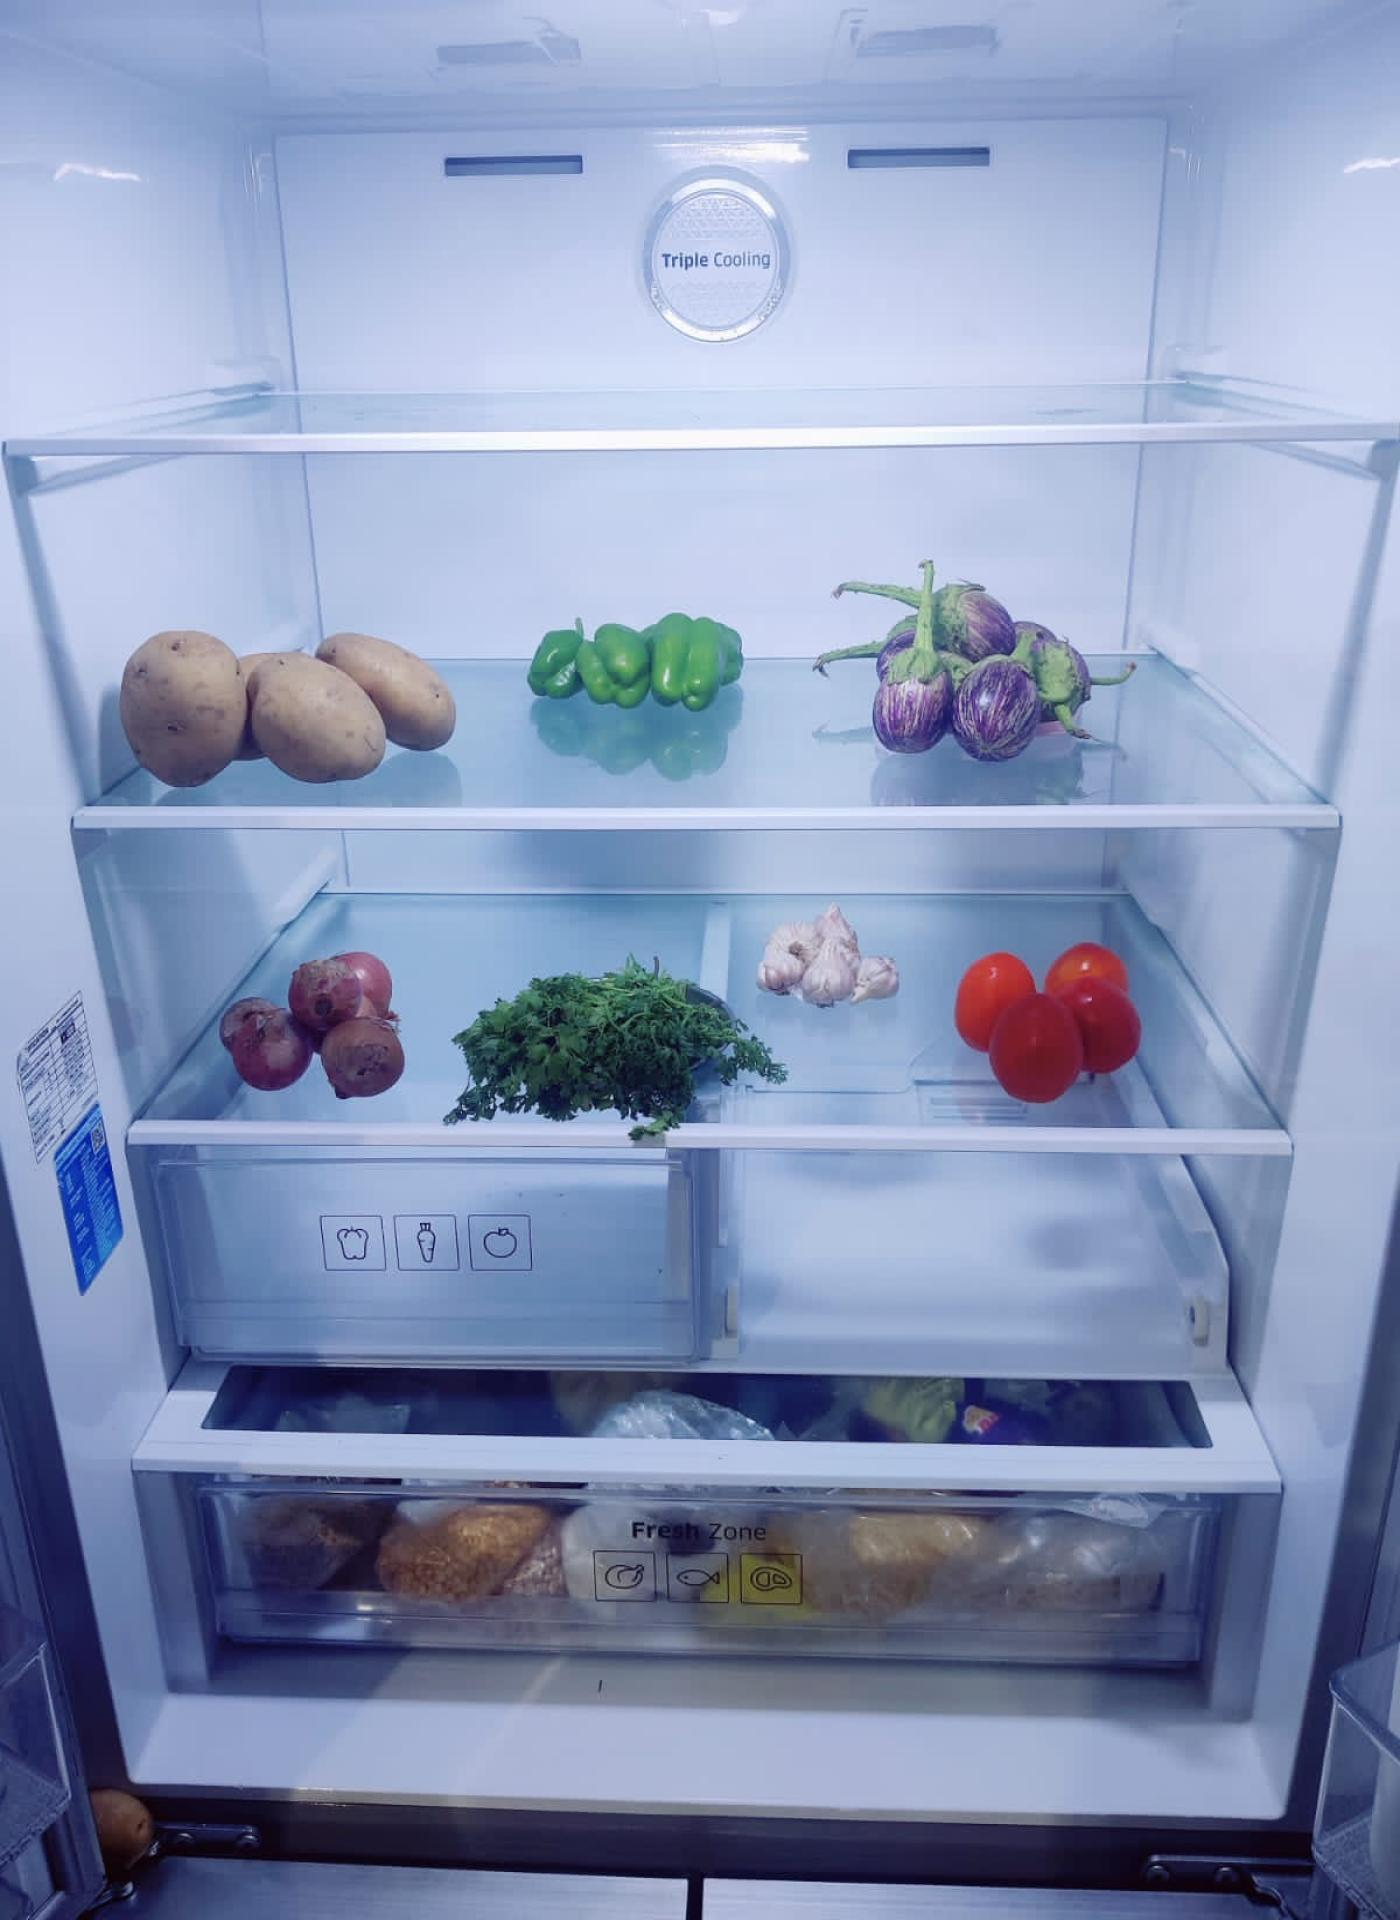brinjal: (869, 581, 1079, 759)
capsicum: (525, 607, 742, 713)
coriander: (461, 963, 777, 1124)
garlic: (754, 911, 901, 1015)
onion: (225, 948, 410, 1096)
potato: (122, 616, 465, 780)
tomato: (950, 942, 1142, 1106)
